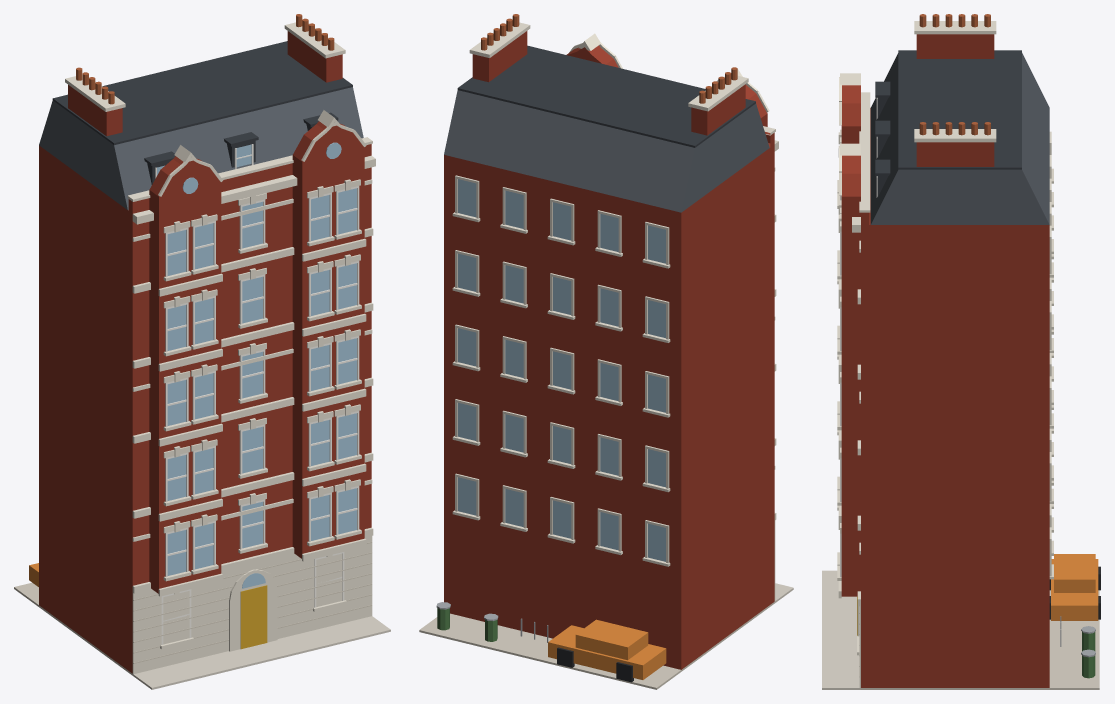
Rendered from Blok_duz_6k_1_Hafif.fbx.
3 renders of one model, left to right at view 1: azimuth 30°, elevation 25°; view 2: azimuth 150°, elevation 25°; view 3: azimuth 270°, elevation 25°, orthographic.
Parts seen in each view (by area): view 1: Blok_duz_6k_1_Hafif; view 2: Blok_duz_6k_1_Hafif; view 3: Blok_duz_6k_1_Hafif.
Part boxes in pixels (bbox=[...]): Blok_duz_6k_1_Hafif: bbox=[14, 14, 390, 689]; Blok_duz_6k_1_Hafif: bbox=[419, 14, 793, 689]; Blok_duz_6k_1_Hafif: bbox=[822, 14, 1100, 689].
Size of the model in its own units: 10.04 by 22.34 by 10.04.
